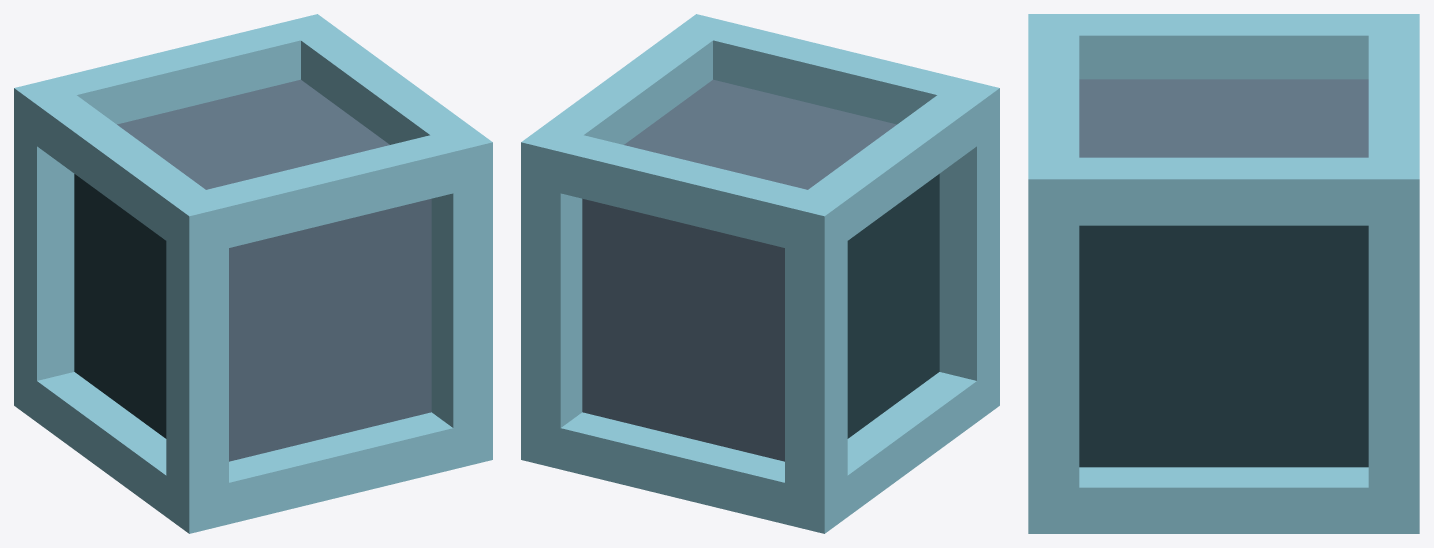
The picture shows the model from 3 angles, left to right: view 1: azimuth 30°, elevation 25°; view 2: azimuth 150°, elevation 25°; view 3: azimuth 270°, elevation 25°; orthographic projection. The views are drawn at different scales.
Visible parts, largest first — view 1: Cube; view 2: Cube; view 3: Cube.
Boxes of the visible parts, bbox=[...] form: Cube: bbox=[14, 14, 492, 533]; Cube: bbox=[521, 14, 999, 533]; Cube: bbox=[1028, 14, 1419, 533].
Bounding box in the file's own units: 28.7 × 28.7 × 28.7.
